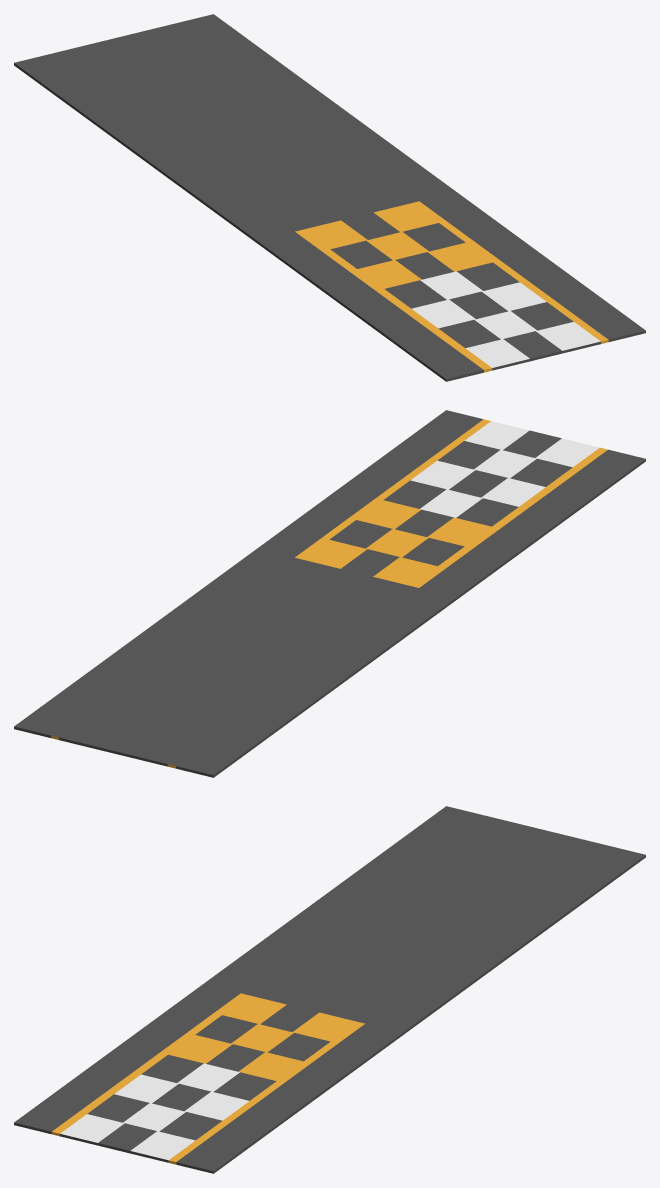
The model's file is RoadFinish.fbx.
The picture shows the model from 3 angles, top to bottom: view 1: azimuth 30°, elevation 25°; view 2: azimuth 150°, elevation 25°; view 3: azimuth 330°, elevation 25°; orthographic projection.
Parts seen in each view (by area): view 1: Cube; view 2: Cube; view 3: Cube.
Boxes of the visible parts, left/top/right/bottom form: Cube: left=14, top=14, right=645, bottom=381; Cube: left=14, top=410, right=645, bottom=777; Cube: left=14, top=806, right=645, bottom=1173.
Size of the model in its own units: 800 by 10 by 3000.
